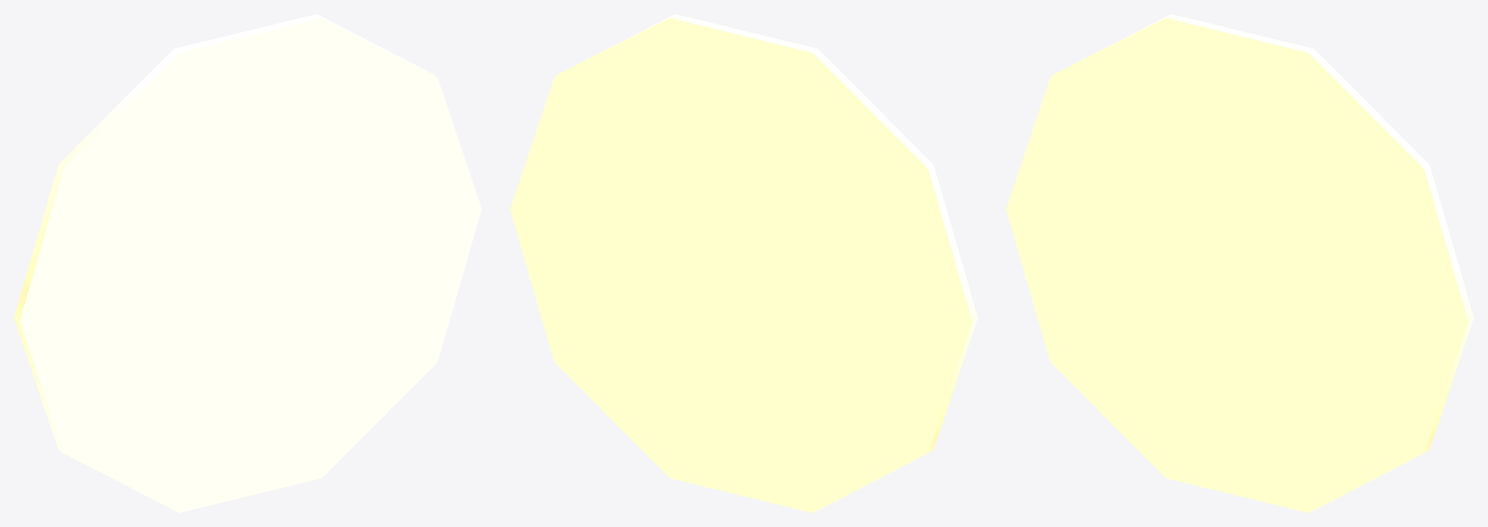
File: SM_FieldKit_LampBulb_LOD2.glb
3 renders of one model, left to right at view 1: azimuth 30°, elevation 25°; view 2: azimuth 150°, elevation 25°; view 3: azimuth 330°, elevation 25°, orthographic.
Visible parts, largest first — view 1: SM_FieldKit_LampBulb_LOD2; view 2: SM_FieldKit_LampBulb_LOD2; view 3: SM_FieldKit_LampBulb_LOD2.
Part boxes in pixels (left/top/right/bottom): SM_FieldKit_LampBulb_LOD2: left=14, top=14, right=481, bottom=512; SM_FieldKit_LampBulb_LOD2: left=510, top=14, right=977, bottom=512; SM_FieldKit_LampBulb_LOD2: left=1006, top=14, right=1473, bottom=512.
Size of the model in its own units: 0.246 by 0.234 by 0.005.
